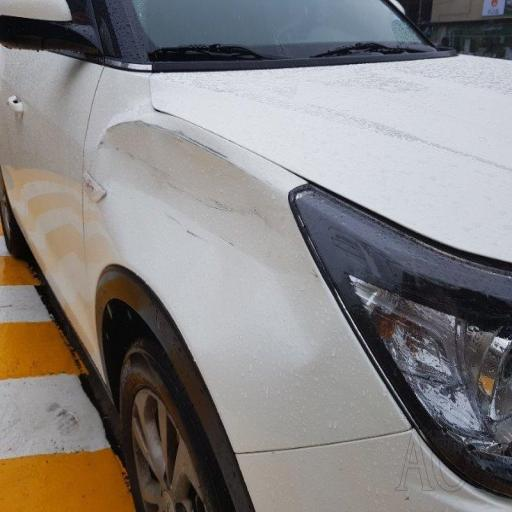dent: (73, 88, 344, 348)
